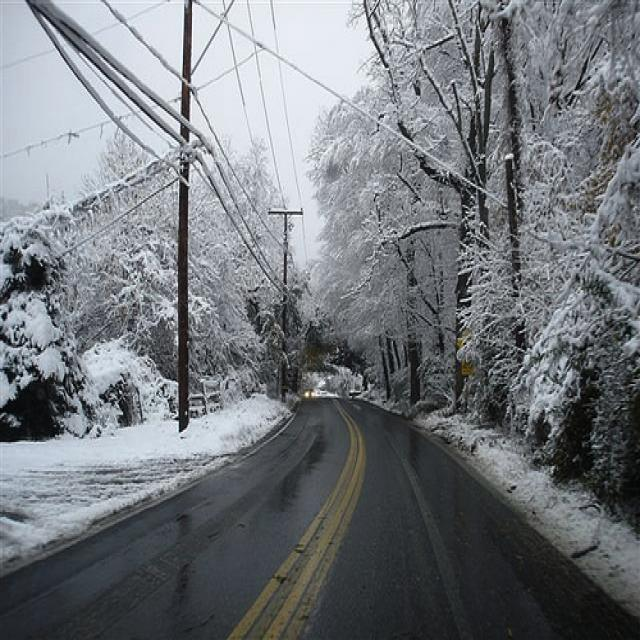pole: (177, 0, 193, 432)
wire: (26, 0, 288, 297), (47, 3, 283, 287), (32, 7, 180, 177), (101, 0, 228, 159), (228, 159, 285, 251)
